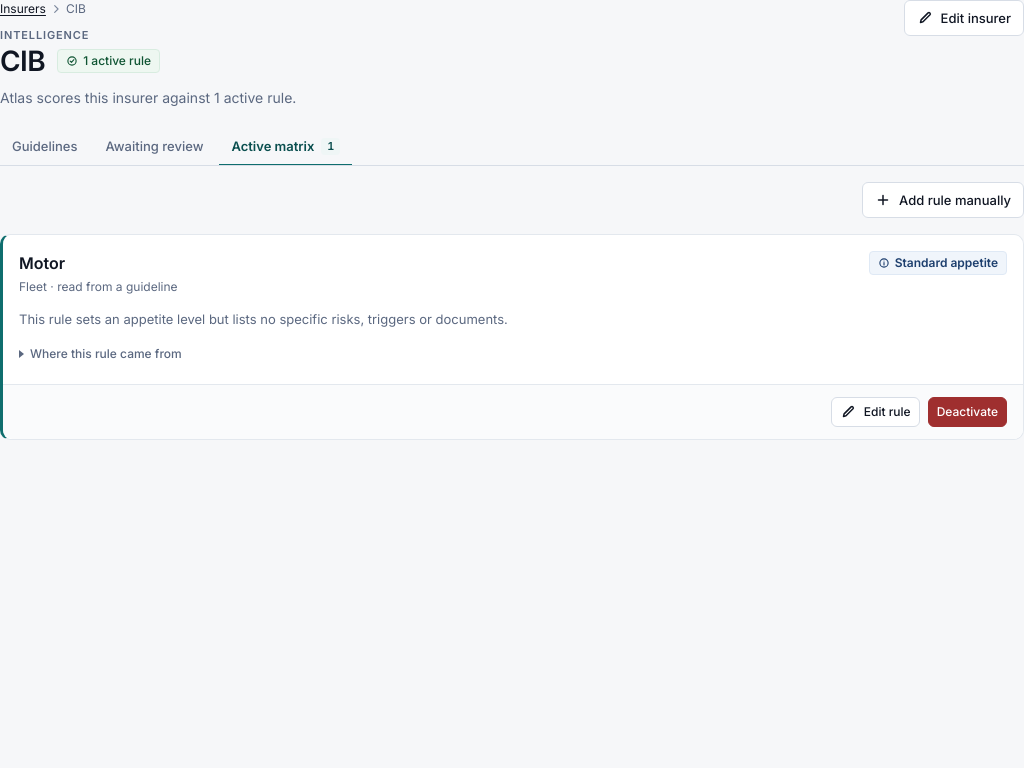
Insurer intelligence workbench › surfaces the stale-data warning when a refresh fails
This screenshot has width=1024, height=768.
expect the heading "CIB" is shown: met, box [0, 44, 45, 79]
Click the button "Edit insurer": x=964, y=18 [904, 0, 1023, 36]
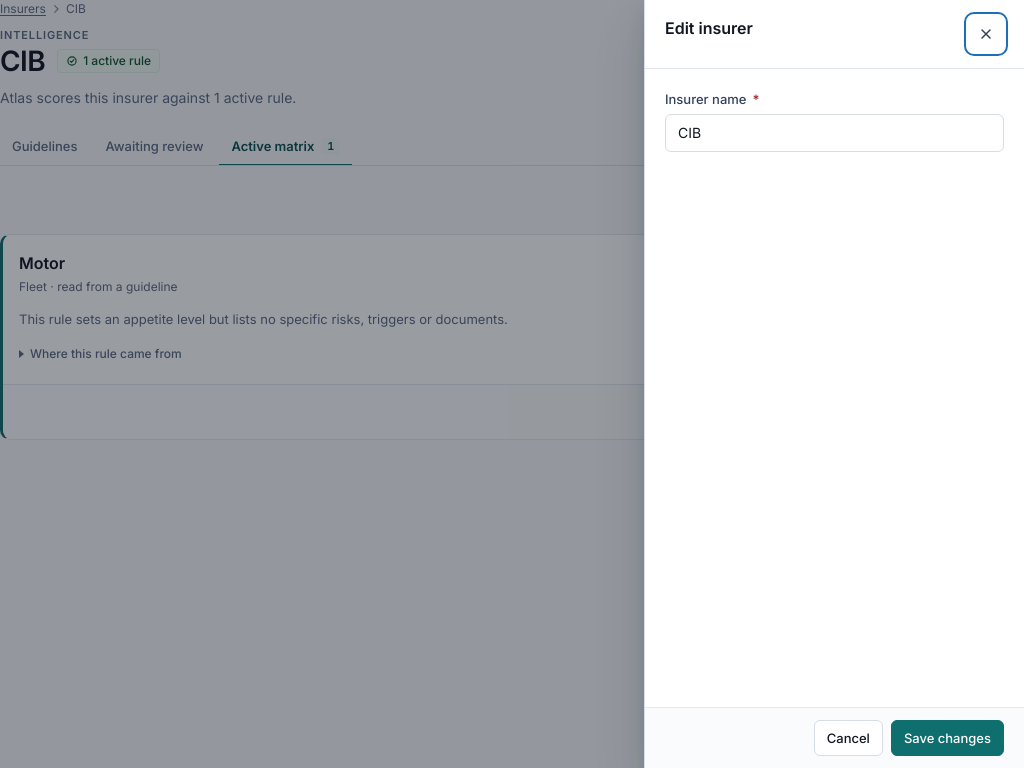
Click the button "Save changes": x=947, y=738 [891, 720, 1004, 756]
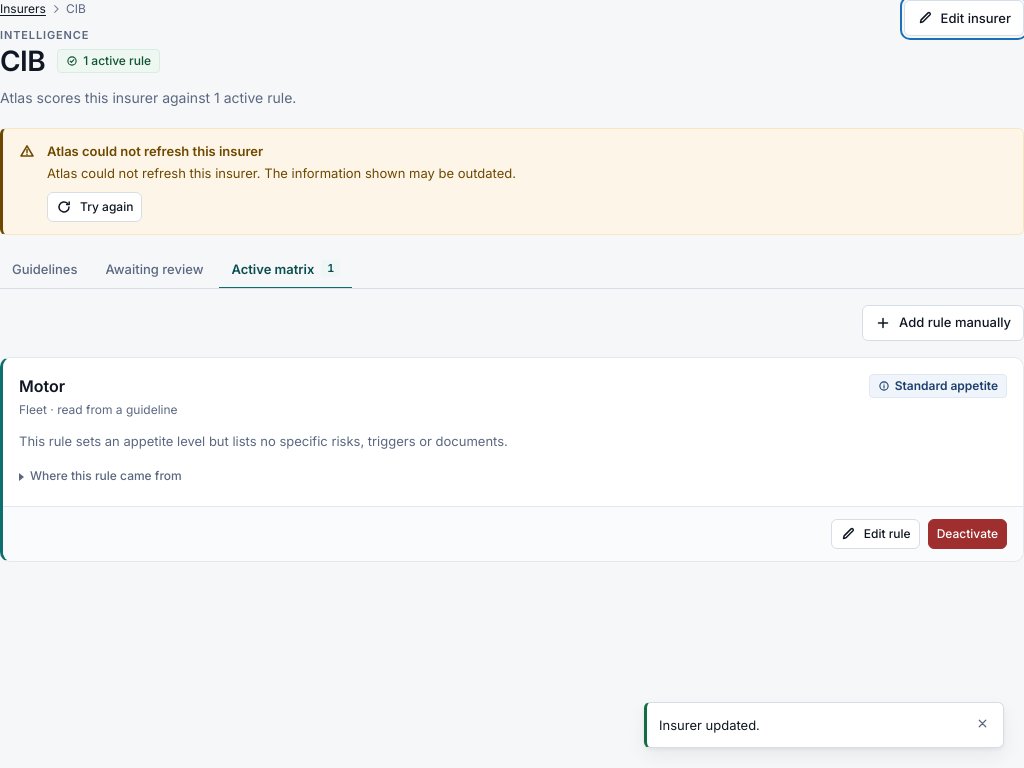
expect the heading "CIB" is shown: met, box [0, 44, 45, 79]
expect the text "Atlas could not refresh this insurer" is shown: met, box [47, 143, 263, 159]
